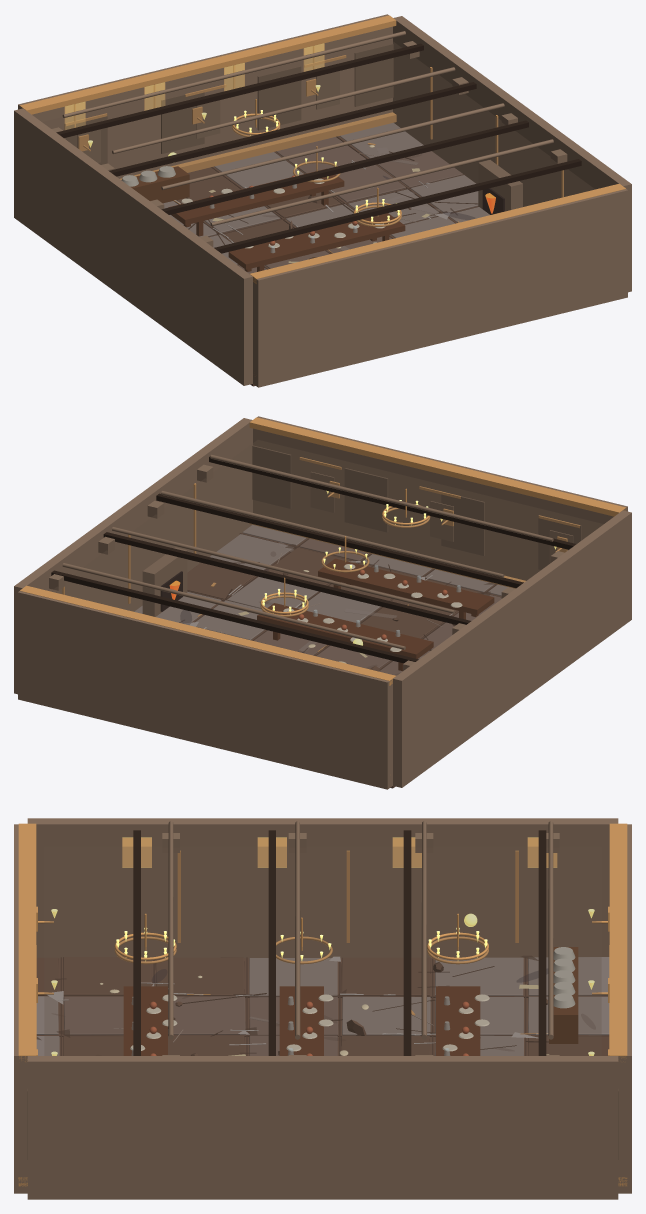
The model's file is dining-hall.high.glb.
3 renders of one model, top to bottom at view 1: azimuth 30°, elevation 25°; view 2: azimuth 150°, elevation 25°; view 3: azimuth 270°, elevation 25°, orthographic. The views are drawn at different scales.
Parts seen in each view (by area): view 1: ceiling_shadow_occlusion_panel, south_authored_wall, west_authored_wall, east_authored_wall, individual_settled_beveled_floor_tile (×13), north_authored_wall, dark_oak_ceiling_crossbeam (×4), upper_vault_stone_rib_crosswise (×4), wall_recess_panel_n (×4), long_dining_table_top (×2), north_crown_trim, south_crown_trim (+5 smaller); view 2: ceiling_shadow_occlusion_panel, north_authored_wall, west_authored_wall, south_authored_wall, individual_settled_beveled_floor_tile (×14), east_authored_wall, dark_oak_ceiling_crossbeam (×4), wall_recess_panel_s (×4), upper_vault_stone_rib_crosswise (×4), long_dining_table_top (×2), south_crown_trim, north_crown_trim (+3 smaller); view 3: ceiling_shadow_occlusion_panel, east_authored_wall, west_authored_wall, individual_settled_beveled_floor_tile (×20), dark_oak_ceiling_crossbeam (×4), long_dining_table_top (×3), upper_vault_stone_rib_crosswise (×4), south_crown_trim, north_crown_trim, north_authored_wall, south_authored_wall, authored_floor_slab (+2 smaller).
Part boxes in pixels (<box>): ceiling_shadow_occlusion_panel: <box>42,39,594,273</box>; south_authored_wall: <box>253,189,627,387</box>; west_authored_wall: <box>14,108,252,385</box>; east_authored_wall: <box>393,16,631,292</box>; individual_settled_beveled_floor_tile (×13): <box>177,122,478,242</box>; north_authored_wall: <box>18,14,392,178</box>; dark_oak_ceiling_crossbeam (×4): <box>56,43,581,253</box>; upper_vault_stone_rib_crosswise (×4): <box>62,31,553,226</box>; wall_recess_panel_n (×4): <box>64,43,393,164</box>; long_dining_table_top (×2): <box>168,168,405,269</box>; north_crown_trim: <box>20,15,396,114</box>; south_crown_trim: <box>250,183,625,283</box>; ceiling_shadow_occlusion_panel: <box>51,440,603,675</box>; north_authored_wall: <box>18,591,392,789</box>; west_authored_wall: <box>393,510,631,787</box>; south_authored_wall: <box>253,416,627,580</box>; individual_settled_beveled_floor_tile (×14): <box>134,524,494,668</box>; east_authored_wall: <box>14,418,252,694</box>; dark_oak_ceiling_crossbeam (×4): <box>51,456,576,663</box>; wall_recess_panel_s (×4): <box>252,445,581,569</box>; upper_vault_stone_rib_crosswise (×4): <box>62,454,553,649</box>; long_dining_table_top (×2): <box>257,558,494,658</box>; south_crown_trim: <box>249,417,626,516</box>; north_crown_trim: <box>20,585,395,685</box>; ceiling_shadow_occlusion_panel: <box>44,847,601,1055</box>; east_authored_wall: <box>27,1056,618,1199</box>; west_authored_wall: <box>27,818,618,958</box>; individual_settled_beveled_floor_tile (×20): <box>36,957,609,1055</box>; dark_oak_ceiling_crossbeam (×4): <box>133,830,546,1055</box>; long_dining_table_top (×3): <box>123,986,480,1055</box>; upper_vault_stone_rib_crosswise (×4): <box>168,821,553,1039</box>; south_crown_trim: <box>18,823,36,1061</box>; north_crown_trim: <box>609,823,627,1061</box>; north_authored_wall: <box>618,824,631,1193</box>; south_authored_wall: <box>14,824,27,1193</box>; authored_floor_slab: <box>36,958,608,1055</box>.
Size of what is drawn, in the model's own units: 13.64 by 4.14 by 14.64.
